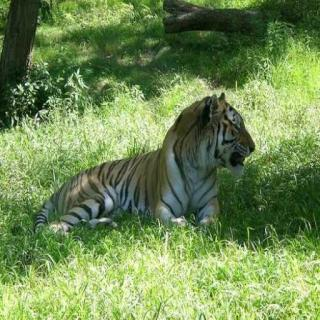Tiger: (35, 78, 272, 247)
